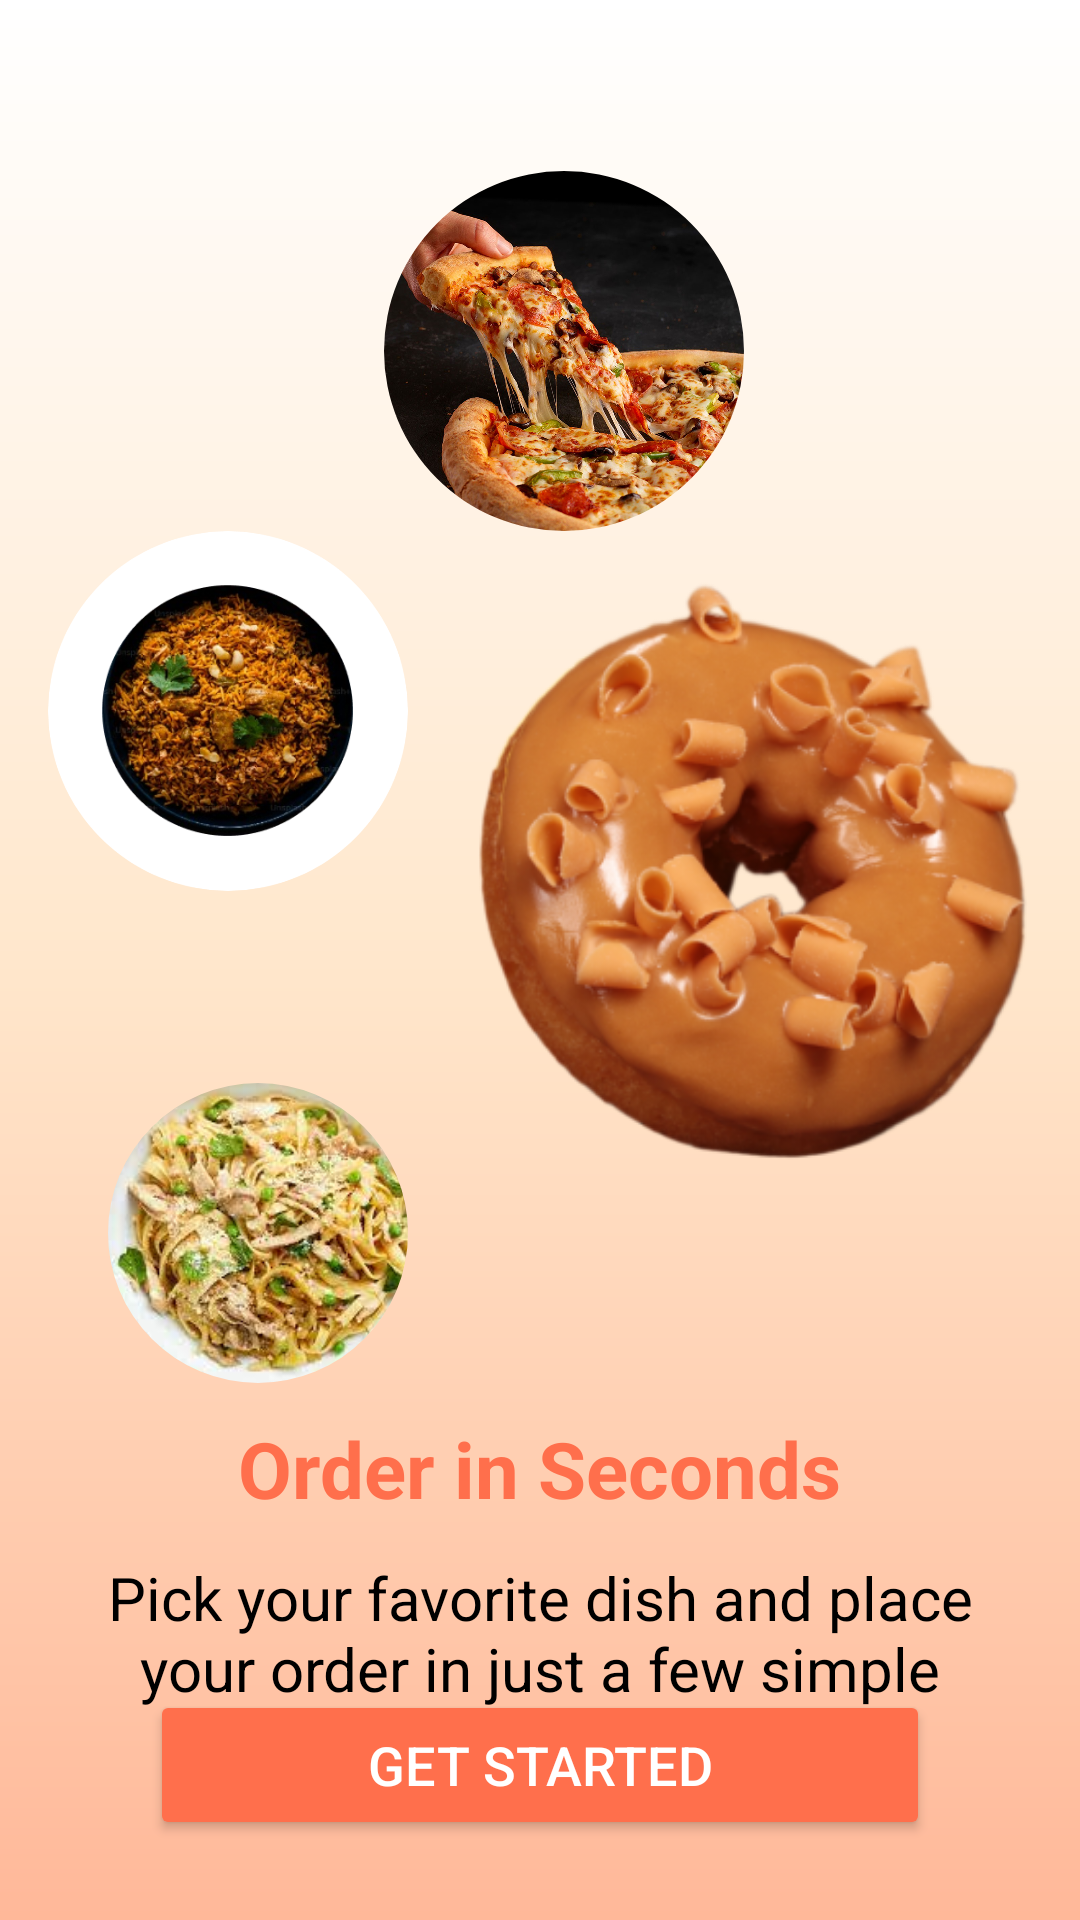

Locate icon controls on the screen. Image size 1080w x 1920h, boxes as BBox(x1, y1, x2, y2).
pasta: BBox(108, 1083, 408, 1383)
pizza: BBox(384, 171, 744, 531)
